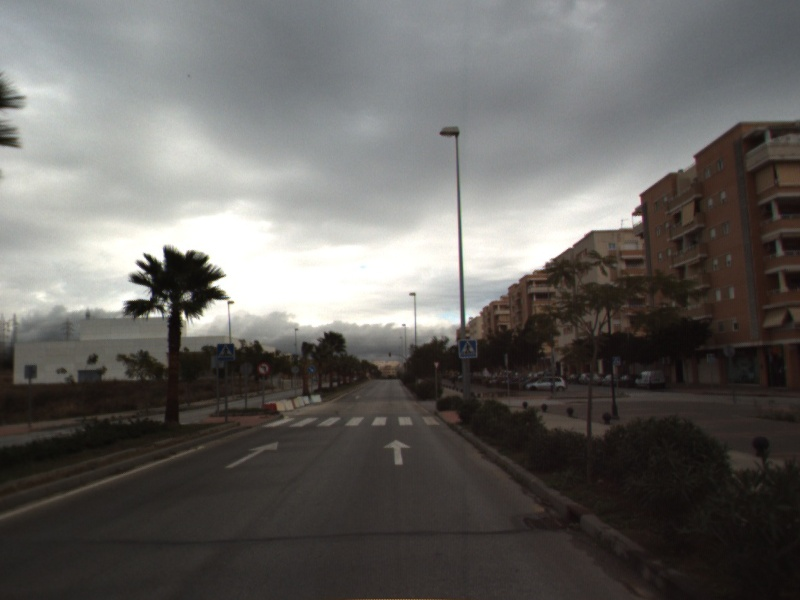STRAIGHT: (223, 440, 279, 470), (382, 437, 413, 467)
